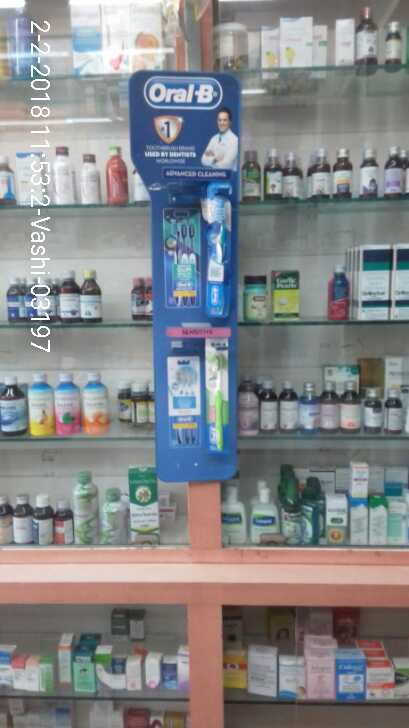oralb: (198, 187, 235, 321), (208, 348, 228, 452)
